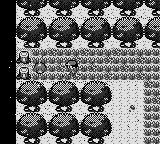captura: (32, 48, 159, 143)
main: (65, 60, 78, 73)
no-caminable: (17, 1, 160, 48), (16, 81, 113, 144), (0, 1, 16, 143), (16, 48, 32, 81)
npc: (33, 62, 46, 74)
poke-ball: (33, 62, 46, 74)
